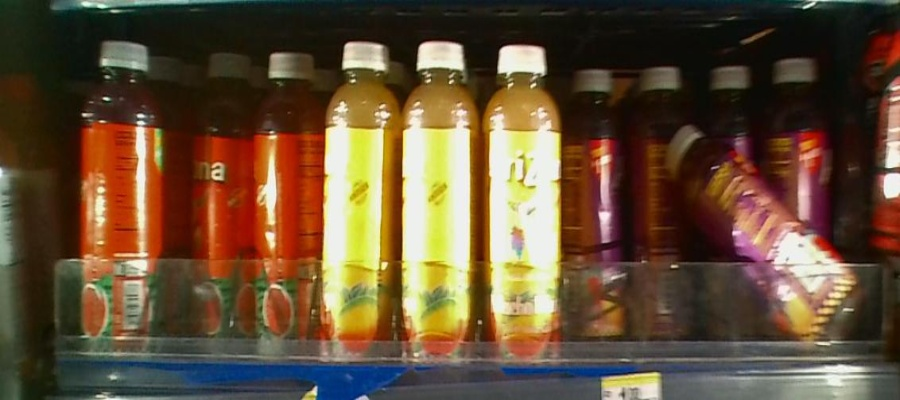bottle: (482, 40, 559, 371), (767, 58, 850, 365), (405, 39, 478, 374), (326, 38, 399, 371), (81, 34, 156, 355), (626, 62, 693, 358), (702, 61, 763, 372), (259, 49, 318, 364), (194, 54, 258, 342), (564, 63, 619, 355)
